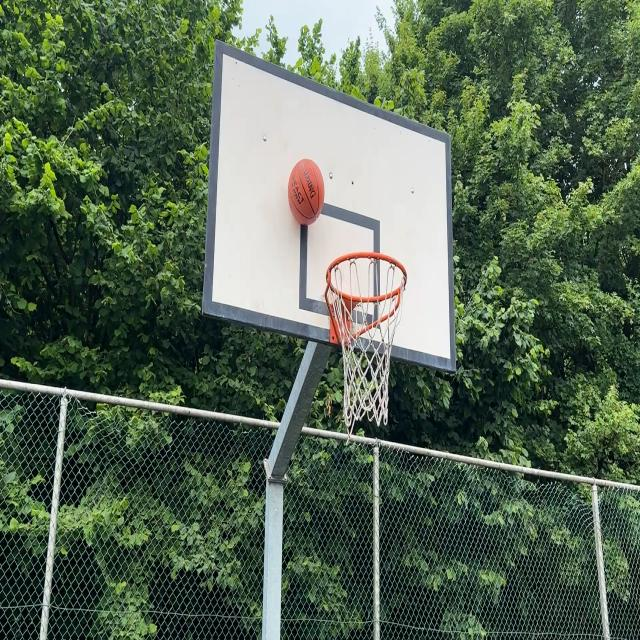rebound_hit: (287, 157, 325, 227)
